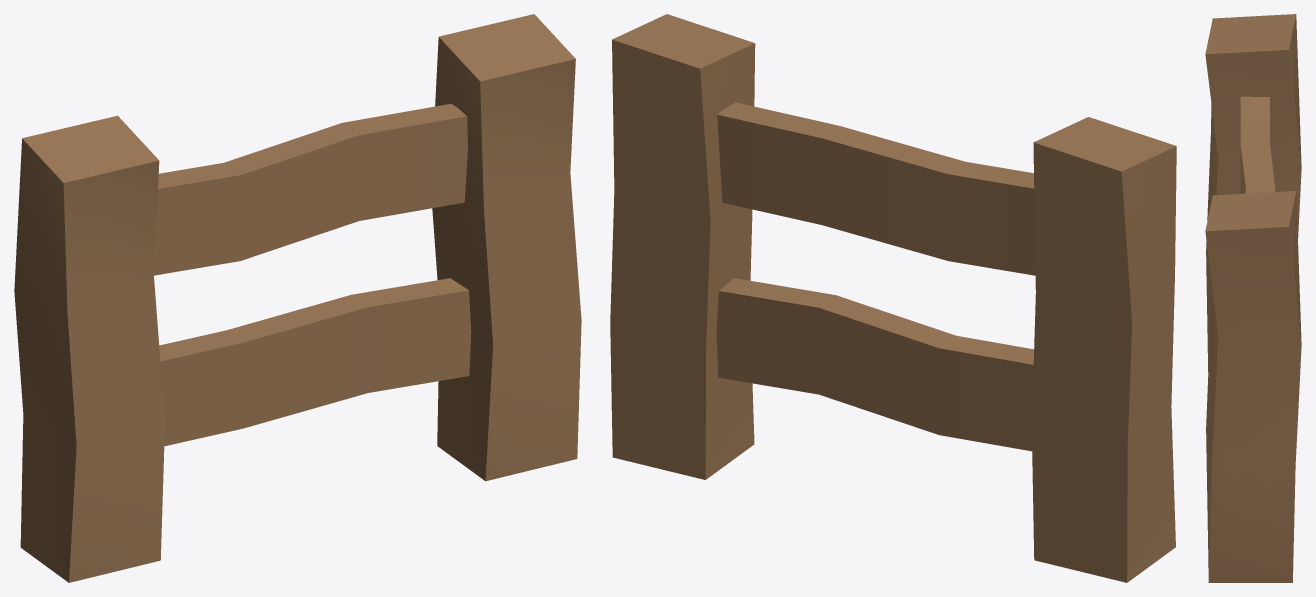
File: fence.fbx
3 views of the same model, side by side, from view 1: azimuth 30°, elevation 25°; view 2: azimuth 150°, elevation 25°; view 3: azimuth 270°, elevation 25° (orthographic). The views are drawn at different scales.
Parts seen in each view (by area): view 1: fence_main.001, fence_main01.001, fence2nd.001, fence1st.001; view 2: fence_main.001, fence_main01.001, fence2nd.001, fence1st.001; view 3: fence_main01.001, fence_main.001, fence2nd.001.
Part boxes in pixels (x1=…): fence_main.001: x1=14, y1=115, x2=164, y2=582; fence_main01.001: x1=432, y1=14, x2=581, y2=481; fence2nd.001: x1=154, y1=103, x2=467, y2=275; fence1st.001: x1=159, y1=278, x2=471, y2=446; fence_main.001: x1=1031, y1=117, x2=1176, y2=582; fence_main01.001: x1=610, y1=14, x2=755, y2=479; fence2nd.001: x1=717, y1=102, x2=1035, y2=275; fence1st.001: x1=716, y1=278, x2=1033, y2=451; fence_main01.001: x1=1205, y1=191, x2=1301, y2=582; fence_main.001: x1=1205, y1=14, x2=1301, y2=371; fence2nd.001: x1=1240, y1=96, x2=1275, y2=193.
Size of the model in its own units: 256 by 193 by 47.2.
